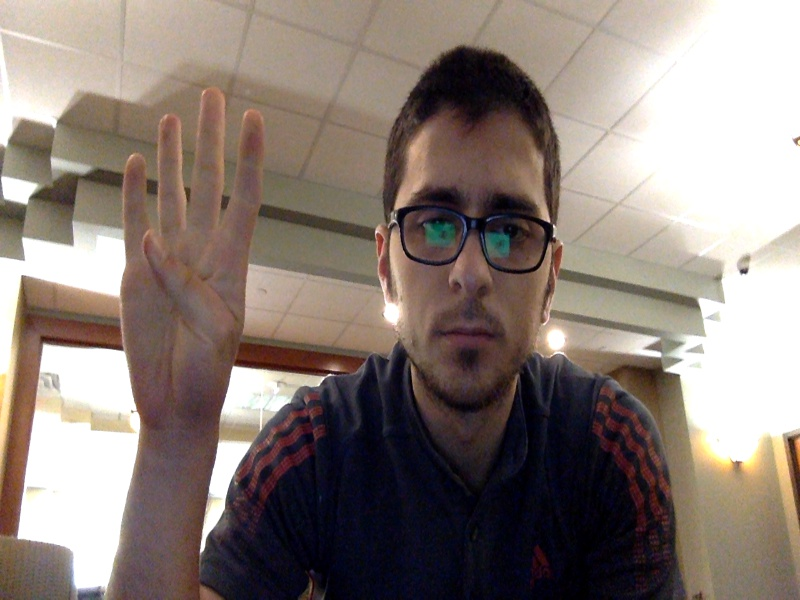4-hand: (123, 88, 266, 434)
